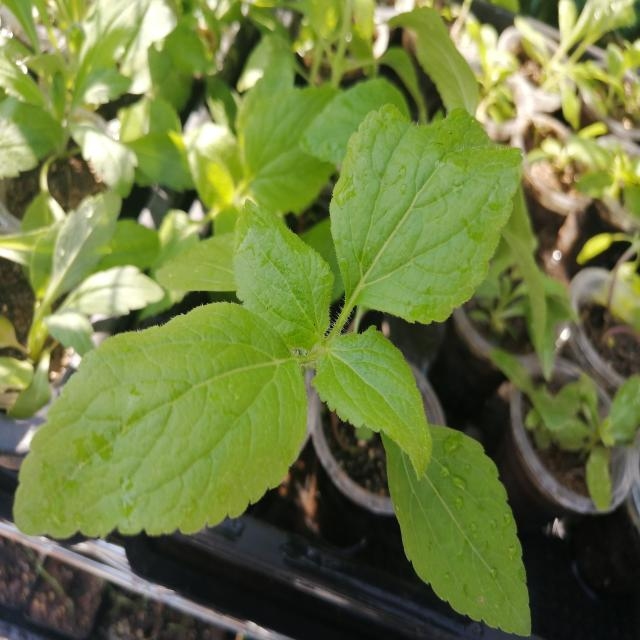billygoat_weed: (39, 121, 533, 624)
